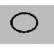no answer: (8, 7, 42, 36)
